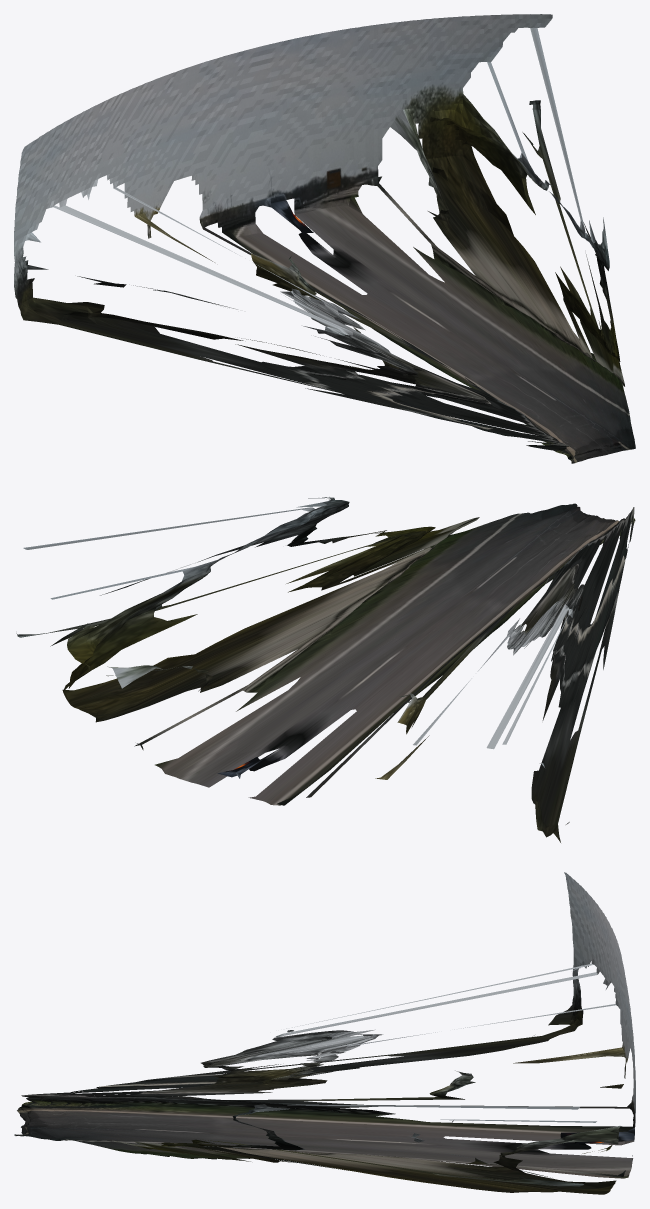
The picture shows the model from 3 angles, top to bottom: view 1: azimuth 30°, elevation 25°; view 2: azimuth 150°, elevation 25°; view 3: azimuth 270°, elevation 25°; orthographic projection. The views are drawn at different scales.
Visible parts, largest first — view 1: defaultobject; view 2: defaultobject; view 3: defaultobject.
Boxes of the visible parts, x1,y1,x2,y2 form: defaultobject: (14,14,635,463); defaultobject: (16,497,635,842); defaultobject: (14,872,635,1194).
Size of the model in its own units: 39.8 by 13.21 by 44.8.
Materials: 1 (1 with a texture image).
